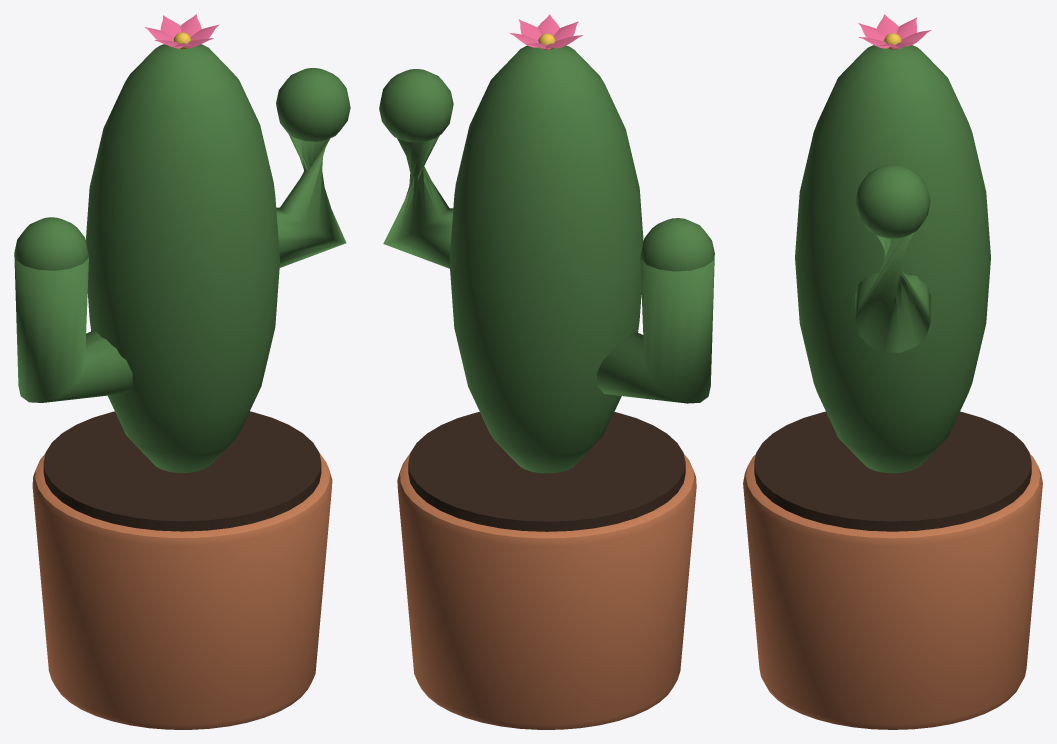
File: plant_cactus.glb
The picture shows the model from 3 angles, left to right: view 1: azimuth 30°, elevation 25°; view 2: azimuth 150°, elevation 25°; view 3: azimuth 270°, elevation 25°; orthographic projection.
Parts seen in each view (by area): view 1: sphere, cyl, cyl.001, tube, tube.001, sphere.002, sphere.001; view 2: sphere, cyl, cyl.001, tube, tube.001, sphere.002, sphere.001; view 3: cyl, sphere, cyl.001, tube.001, sphere.002.
Part boxes in pixels (x1,y1,x2,y2): sphere: (85, 44, 279, 472); cyl: (32, 453, 332, 729); cyl.001: (43, 411, 321, 531); tube: (14, 253, 132, 402); tube.001: (276, 134, 346, 267); sphere.002: (276, 68, 350, 142); sphere.001: (14, 217, 88, 270); sphere: (449, 45, 643, 473); cyl: (397, 454, 696, 729); cyl.001: (408, 412, 685, 531); tube: (596, 254, 714, 403); tube.001: (383, 135, 453, 268); sphere.002: (379, 69, 453, 142); sphere.001: (640, 218, 714, 271); cyl: (743, 454, 1042, 729); sphere: (795, 45, 990, 473); cyl.001: (754, 411, 1031, 531); tube.001: (855, 232, 930, 352); sphere.002: (855, 164, 930, 238).
Bounding box in the file's own units: 19.9 × 37.92 × 15.9.
